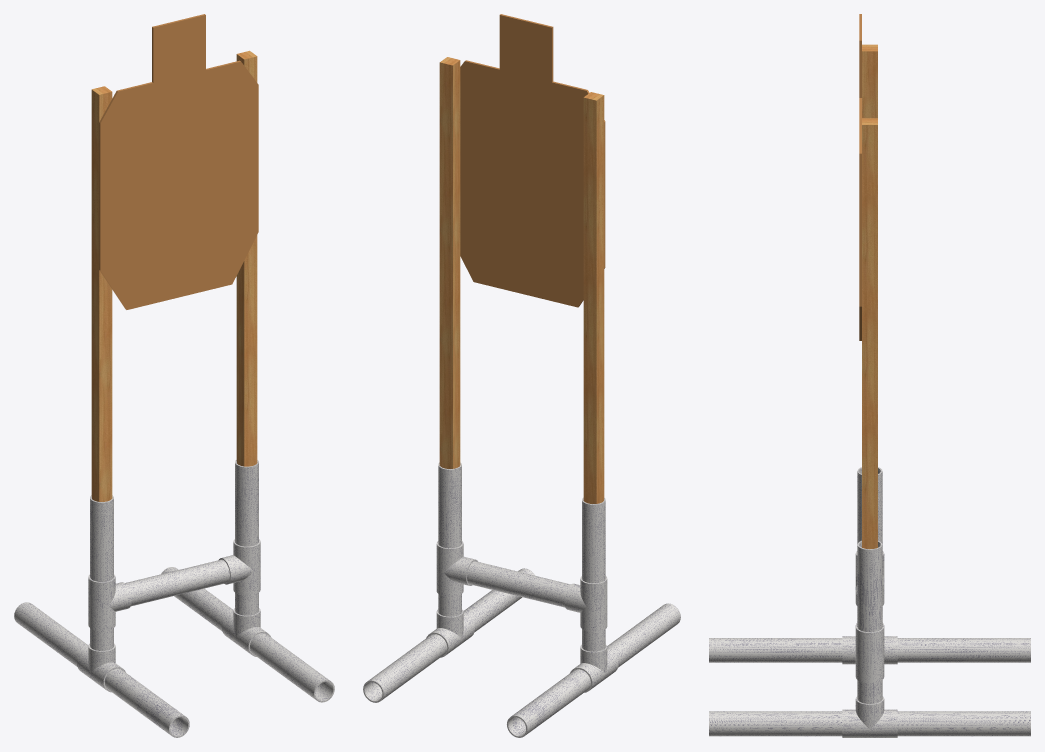
Rendered from ObjekTembak1.fbx.
The picture shows the model from 3 angles, left to right: view 1: azimuth 30°, elevation 25°; view 2: azimuth 150°, elevation 25°; view 3: azimuth 270°, elevation 25°; orthographic projection. The views are drawn at different scales.
Parts seen in each view (by area): view 1: target1, G_2x2_1, G_2x2_2, pipe5, pipe4, pipe1, pipe_2_2, pipe_2_1, pipe2, G_2T40_2, G_2T40_4, pipe3 (+2 smaller); view 2: target1, G_2x2_1, G_2x2_2, pipe5, pipe3, pipe2, pipe_2_2, pipe_2_1, pipe1, G_2T40_2, G_2T40_4, pipe4 (+2 smaller); view 3: G_2x2_2, pipe3, pipe4, pipe1, pipe2, pipe_2_2, G_2T40_3, G_2T40_4, G_2x2_1, target1, G_2T40_1, pipe_2_1 (+1 smaller).
Boxes of the visible parts, x1,y1,x2,y2 form: target1: [99, 14, 258, 309]; G_2x2_1: [91, 86, 112, 501]; G_2x2_2: [236, 50, 257, 466]; pipe5: [125, 559, 229, 606]; pipe4: [250, 633, 334, 702]; pipe1: [105, 668, 189, 737]; pipe_2_2: [235, 460, 258, 546]; pipe_2_1: [90, 495, 113, 581]; pipe2: [14, 602, 88, 666]; G_2T40_2: [88, 574, 131, 630]; G_2T40_4: [218, 539, 260, 595]; pipe3: [161, 567, 233, 631]; target1: [460, 14, 605, 307]; G_2x2_1: [583, 92, 604, 503]; G_2x2_2: [439, 57, 460, 468]; pipe5: [467, 561, 570, 607]; pipe3: [363, 634, 447, 702]; pipe2: [507, 669, 590, 737]; pipe_2_2: [438, 462, 461, 548]; pipe_2_1: [582, 497, 605, 583]; pipe1: [607, 603, 680, 667]; G_2T40_2: [564, 576, 607, 631]; G_2T40_4: [436, 541, 477, 596]; pipe4: [463, 568, 534, 632]; G_2x2_2: [862, 118, 877, 549]; pipe3: [897, 711, 1030, 736]; pipe4: [709, 711, 842, 736]; pipe1: [709, 638, 842, 662]; pipe2: [897, 638, 1030, 662]; pipe_2_2: [857, 540, 882, 632]; G_2T40_3: [842, 696, 897, 737]; G_2T40_4: [855, 625, 884, 683]; G_2x2_1: [862, 44, 877, 118]; target1: [859, 14, 861, 340]; G_2T40_1: [842, 623, 897, 664]; pipe_2_1: [857, 467, 882, 544].
Bounding box in the file's own units: 0.4874 × 1.79 × 0.7747.
